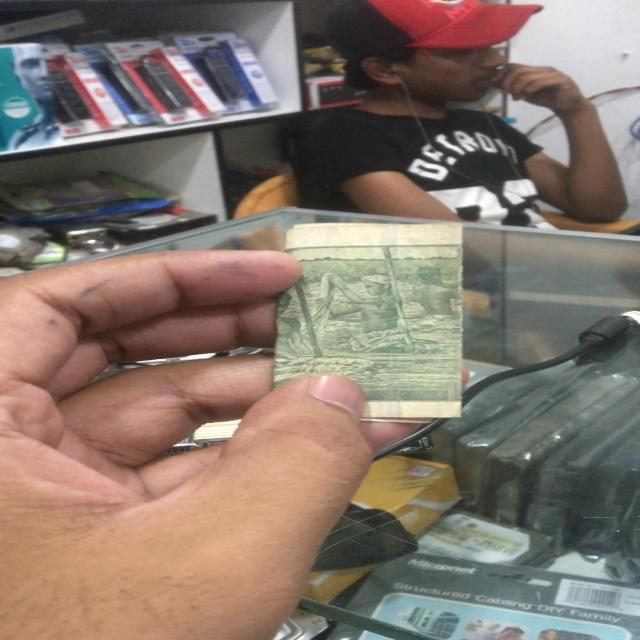Taka: (282, 228, 466, 422)
